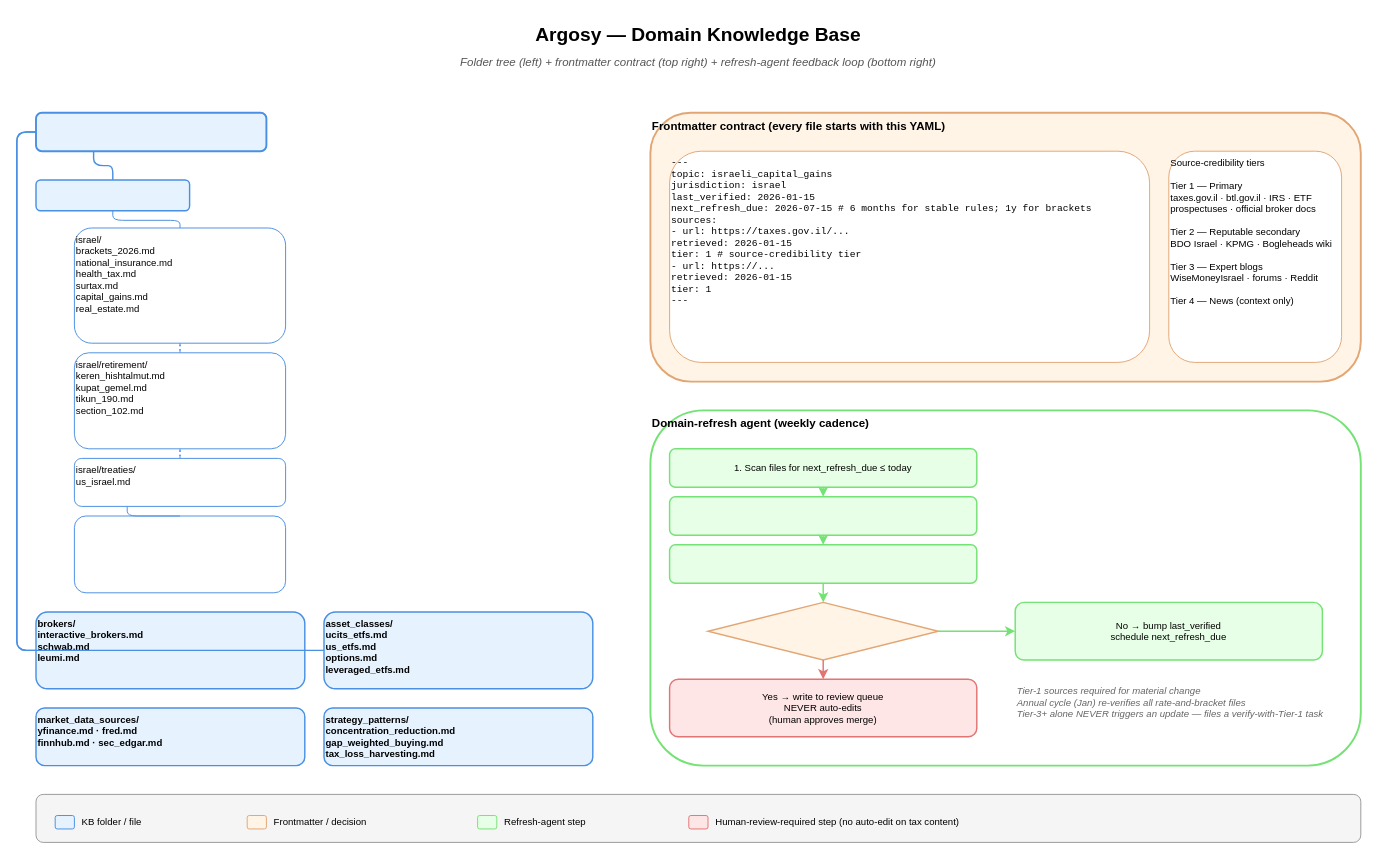
Image size: 1379x859. Some labels were removed from this diagram. The box of each missing label's shape, as (x1, y1, x2, y2) in pixels:
2. Re-fetch sources via WebFetch / WebSearch: (668, 496, 977, 535)
3. Compute structured diff vs current content: (668, 544, 977, 583)
domain_knowledge/: (35, 111, 267, 152)
Legend: (35, 793, 1361, 842)
Material change?: (707, 601, 939, 660)
tax/: (35, 179, 190, 211)
us/ nonresident_withholding.md estate_tax_nonresidents.md pfic.md: (73, 515, 286, 593)
